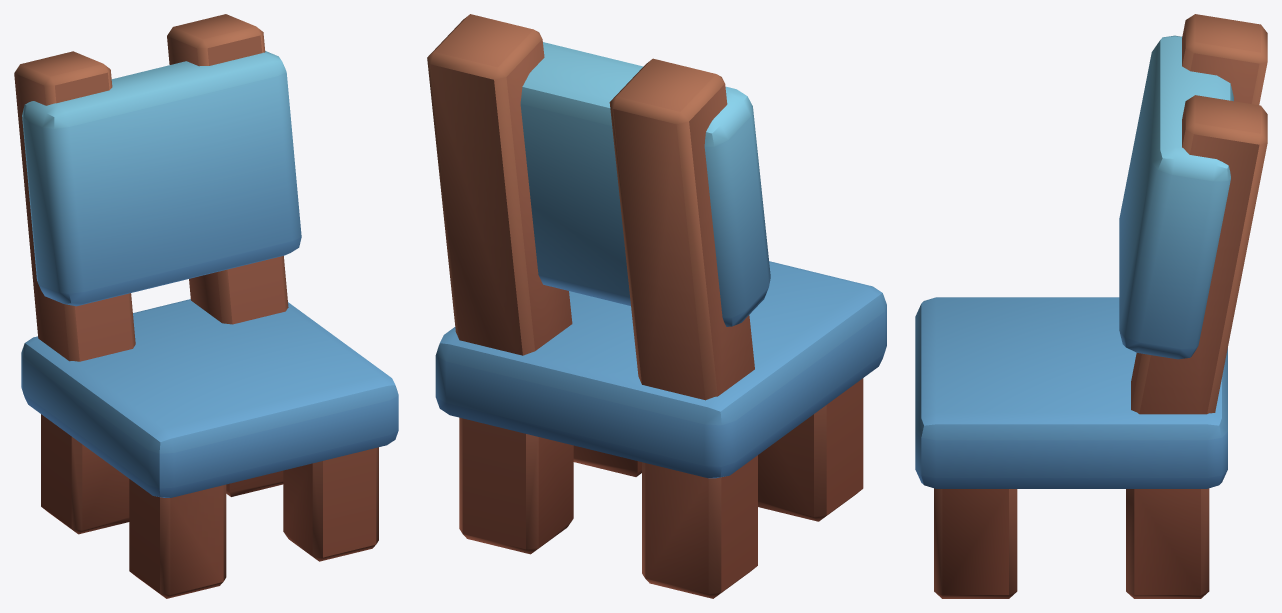
File: chair_B.obj
3 renders of one model, left to right at view 1: azimuth 30°, elevation 25°; view 2: azimuth 150°, elevation 25°; view 3: azimuth 270°, elevation 25°, orthographic. The views are drawn at different scales.
Visible parts, largest first — view 1: chair_B_Cube.032; view 2: chair_B_Cube.032; view 3: chair_B_Cube.032.
Part boxes in pixels (bbox=[...]): chair_B_Cube.032: bbox=[14, 14, 398, 598]; chair_B_Cube.032: bbox=[427, 14, 886, 598]; chair_B_Cube.032: bbox=[915, 14, 1267, 598].
Size of the model in its own units: 0.75 by 1.26 by 0.8451.
1 material, 1 textured.
